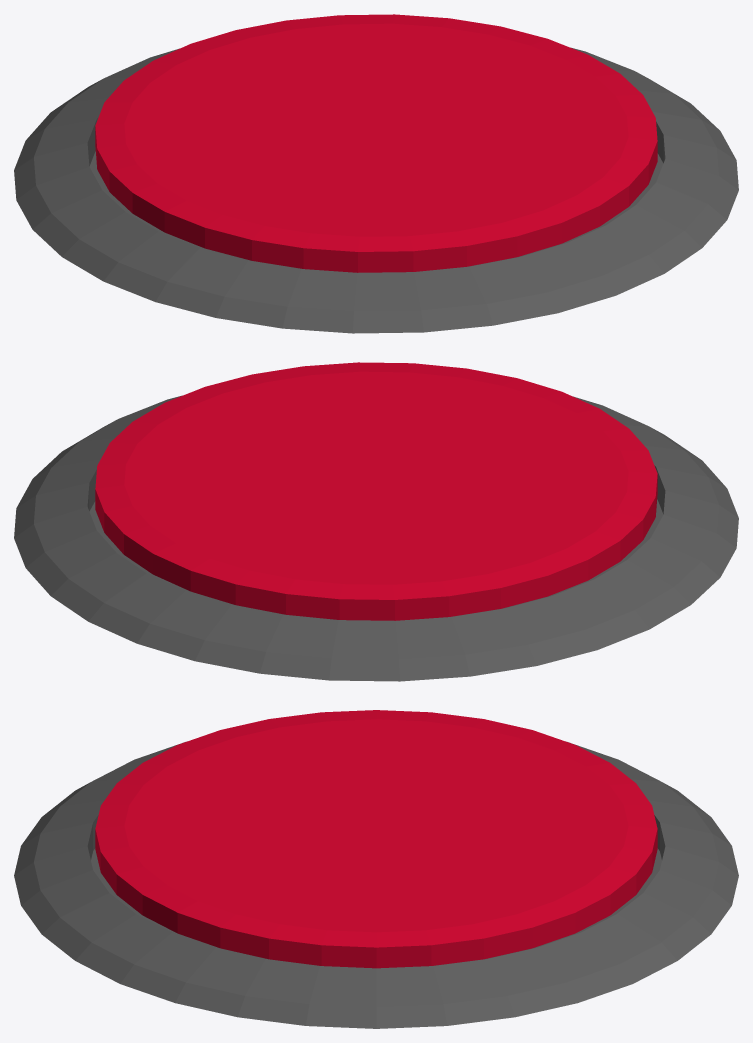
File: props.fbx_B3.fbx
3 views of the same model, one above another, from view 1: azimuth 30°, elevation 25°; view 2: azimuth 150°, elevation 25°; view 3: azimuth 270°, elevation 25° (orthographic).
Parts seen in each view (by area): view 1: Circle.009, Circle.005; view 2: Circle.009, Circle.005; view 3: Circle.009, Circle.005.
Part boxes in pixels (x1,y1,x2,y2): Circle.009: [95, 14, 657, 272]; Circle.005: [14, 47, 738, 333]; Circle.009: [95, 362, 657, 620]; Circle.005: [14, 395, 738, 681]; Circle.009: [95, 710, 657, 968]; Circle.005: [14, 742, 738, 1028].
Bounding box in the file's own units: 1.11 × 0.0842 × 1.11.
